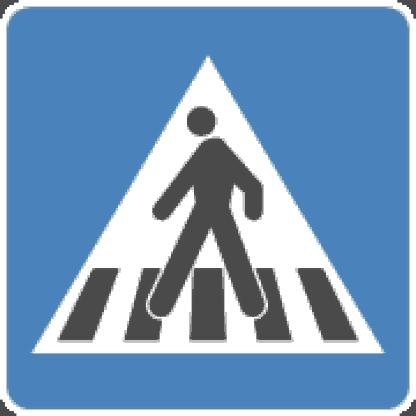Pedestrian Crossing: (31, 22, 390, 387)
